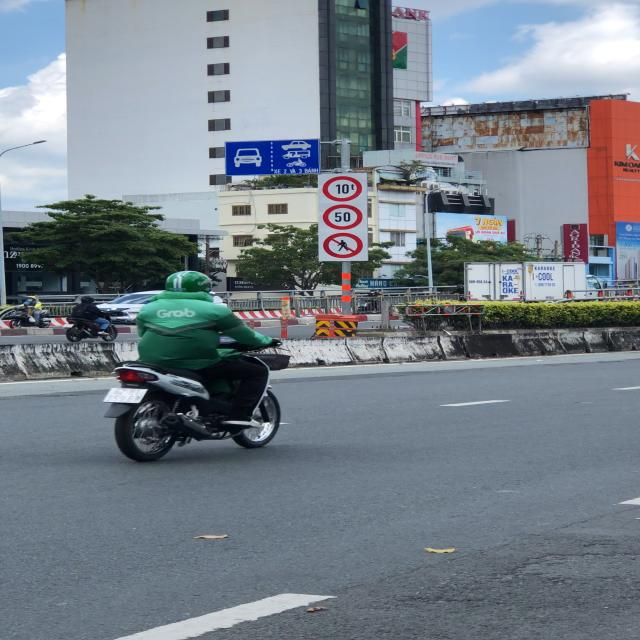Bien bao cam nguoi di bo: (322, 231, 373, 260)
Bien bao toc do toi da cho phep: (322, 203, 366, 231)
